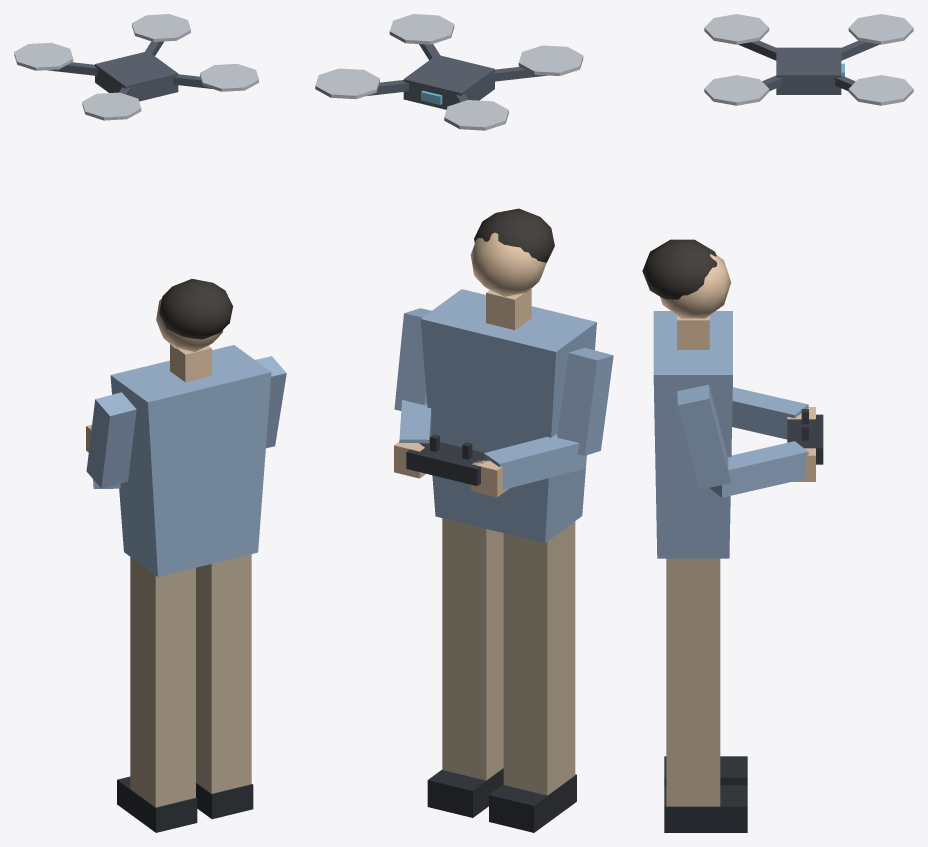
The model's file is drone.glb.
3 renders of one model, left to right at view 1: azimuth 30°, elevation 25°; view 2: azimuth 150°, elevation 25°; view 3: azimuth 270°, elevation 25°, orthographic. The views are drawn at different scales.
Parts seen in each view (by area): view 1: Body, LegL, LegR, Drone; view 2: Body, LegL, LegR, Drone; view 3: Body, LegR, Drone, LegL.
Boxes of the visible parts, <box> form: Body: <box>86,279,286,576</box>; LegL: <box>117,557,197,832</box>; LegR: <box>196,554,253,819</box>; Drone: <box>14,14,258,120</box>; Body: <box>394,208,613,542</box>; LegL: <box>489,521,576,832</box>; LegR: <box>427,518,503,817</box>; Drone: <box>315,14,583,130</box>; Body: <box>642,239,823,558</box>; LegR: <box>664,558,747,832</box>; Drone: <box>704,14,913,105</box>; LegL: <box>664,756,747,785</box>.
Bounding box in the file's own units: 0.6 × 2.29 × 0.7513.
